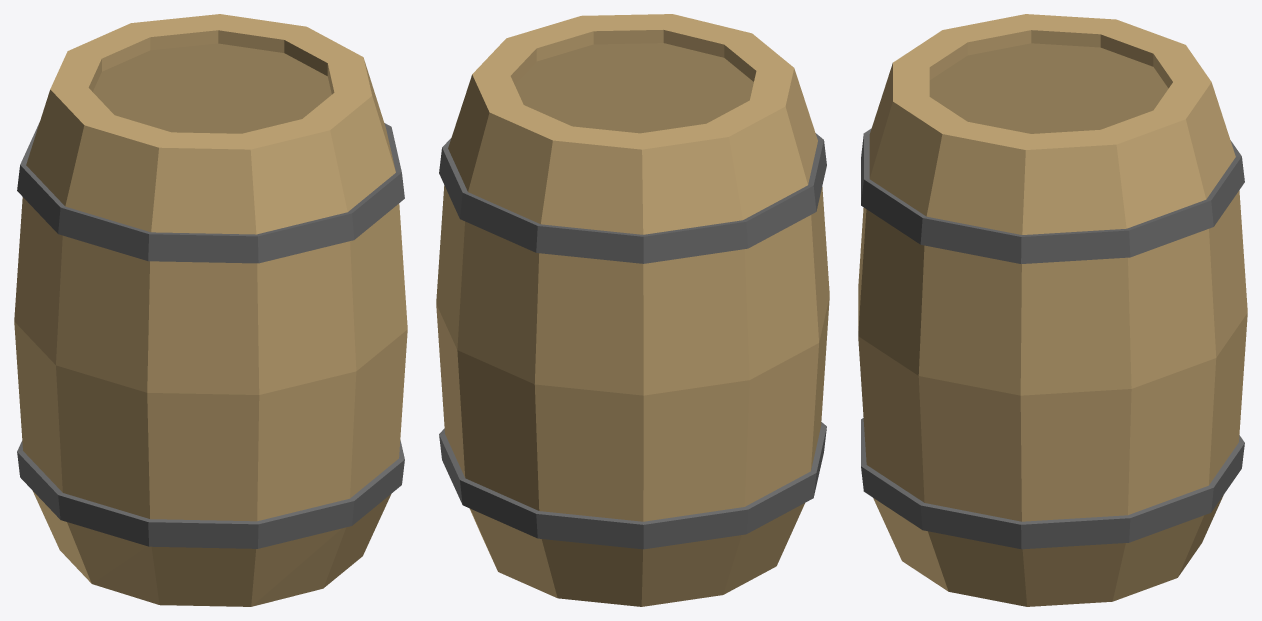
Rendered from Barrel_1_5.fbx.
The picture shows the model from 3 angles, left to right: view 1: azimuth 30°, elevation 25°; view 2: azimuth 150°, elevation 25°; view 3: azimuth 270°, elevation 25°; orthographic projection.
Parts seen in each view (by area): view 1: Barrel_1_5; view 2: Barrel_1_5; view 3: Barrel_1_5.
Part boxes in pixels (x1,y1,x2,y2): Barrel_1_5: (14,14,407,606); Barrel_1_5: (436,14,829,606); Barrel_1_5: (858,14,1247,606).
Bounding box in the file's own units: 27.33 × 35.3 × 27.05.
